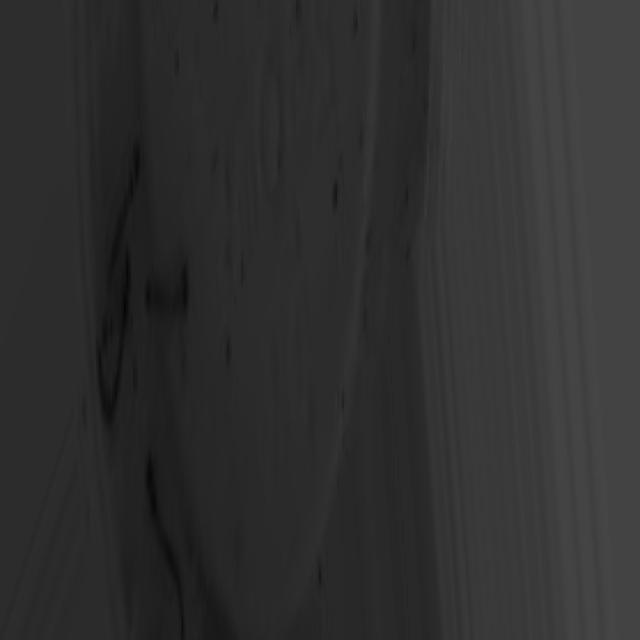larvas: (82, 247, 154, 437), (144, 452, 185, 640), (101, 136, 152, 285), (145, 263, 194, 317)
